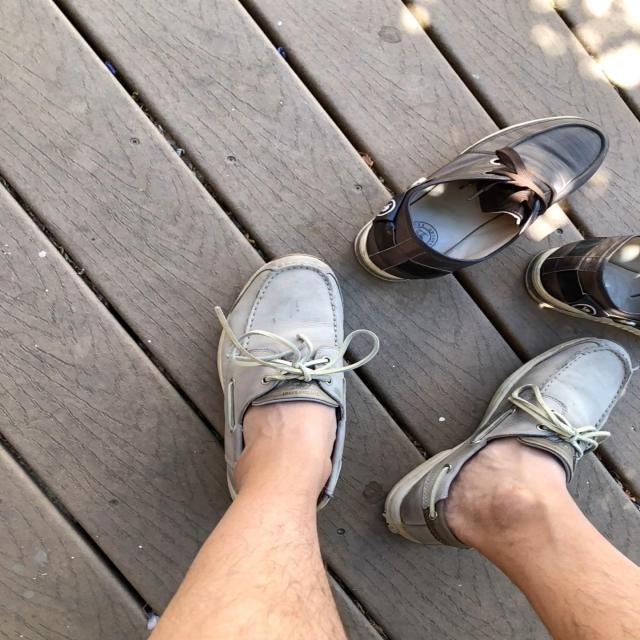shoe: (392, 337, 635, 547), (215, 255, 380, 514), (354, 119, 608, 281)
